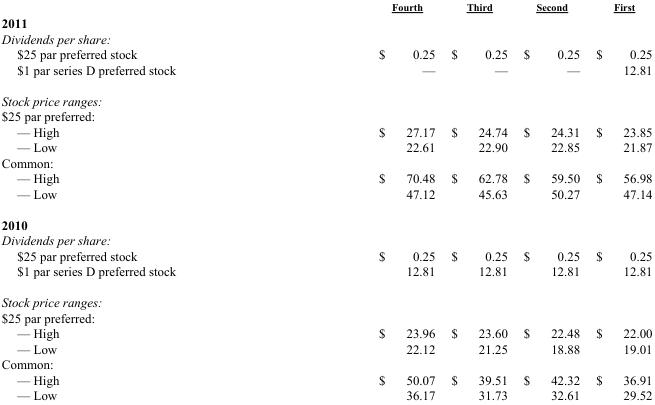table: (0, 0, 651, 402)
table column: (0, 0, 276, 402), (276, 0, 442, 402), (514, 0, 587, 402), (442, 0, 514, 402), (587, 0, 651, 402)
table column header: (0, 0, 651, 13)
table projected row header: (0, 208, 651, 232), (0, 85, 651, 108), (0, 286, 651, 309), (0, 13, 651, 30), (0, 30, 651, 46), (0, 154, 651, 170), (0, 309, 651, 325), (0, 108, 651, 123), (0, 232, 651, 247), (0, 356, 651, 371)
table row: (0, 61, 651, 85), (0, 208, 651, 232), (0, 85, 651, 108), (0, 185, 651, 208), (0, 263, 651, 286), (0, 286, 651, 309), (0, 13, 651, 30), (0, 30, 651, 46), (0, 123, 651, 139), (0, 154, 651, 170), (0, 247, 651, 263), (0, 309, 651, 325), (0, 340, 651, 356), (0, 371, 651, 387), (0, 46, 651, 61), (0, 108, 651, 123), (0, 139, 651, 154), (0, 170, 651, 185), (0, 232, 651, 247), (0, 325, 651, 340), (0, 356, 651, 371), (0, 387, 651, 402), (0, 0, 651, 13)
